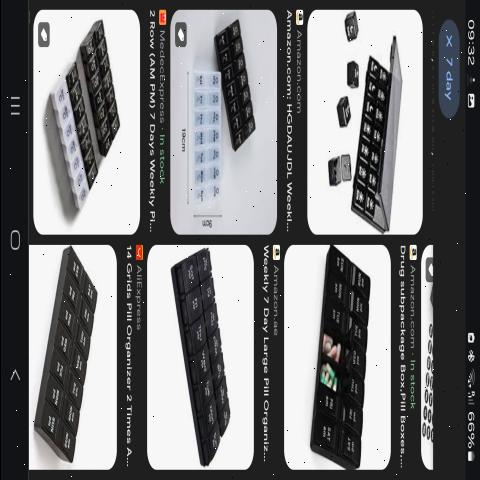PillBox: (298, 239, 374, 476), (34, 252, 108, 467), (171, 247, 237, 463), (346, 40, 414, 230), (50, 53, 96, 237), (216, 11, 259, 166), (84, 11, 126, 167)
